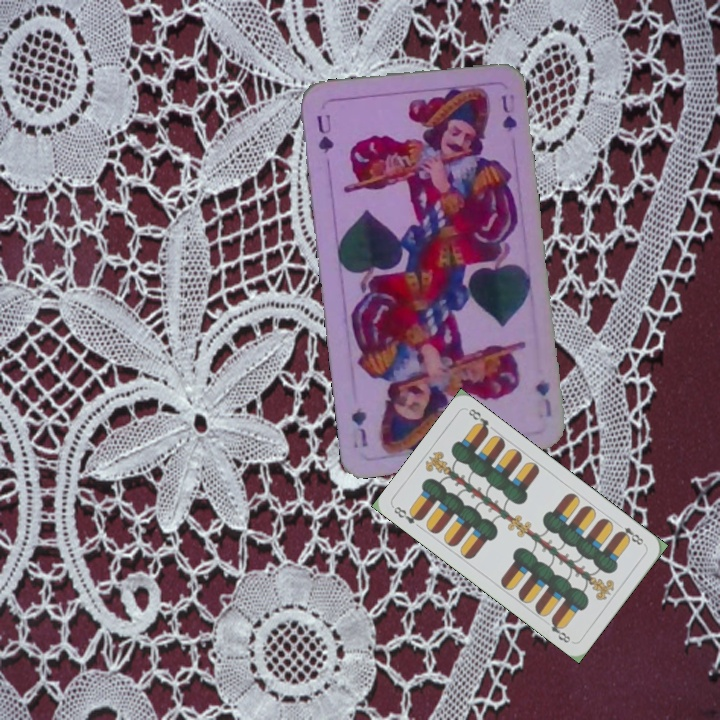E8: (613, 519, 648, 548), (390, 502, 425, 526)
GU: (313, 109, 337, 156), (532, 375, 554, 419)
